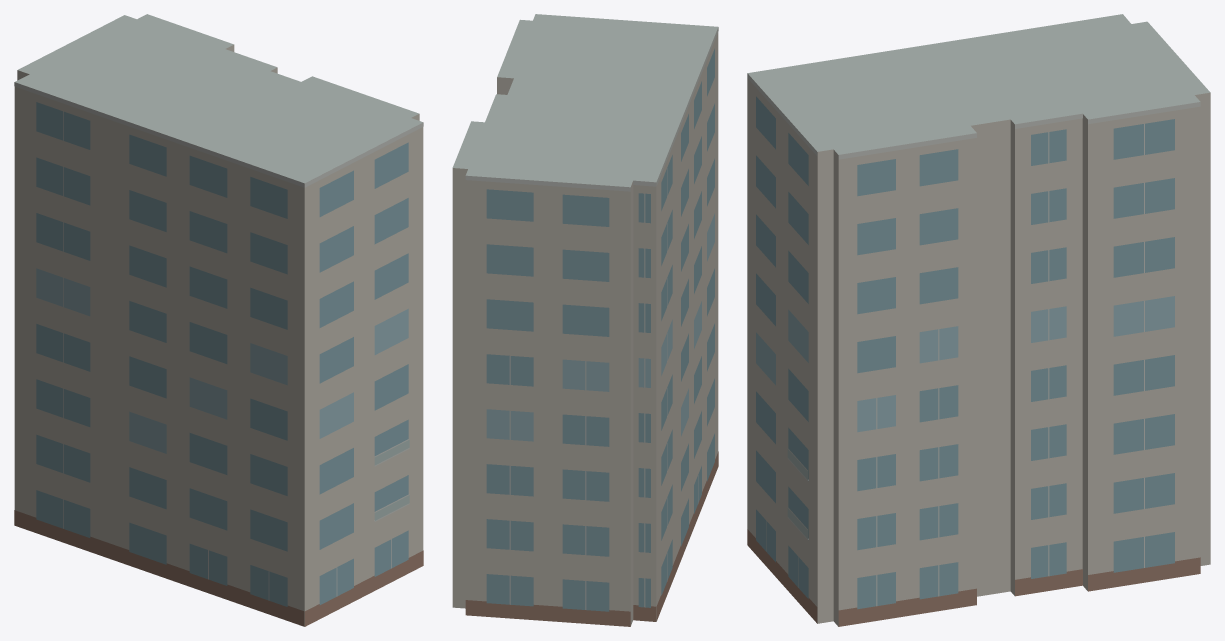
Rendered from survey-upis-32853660.glb.
3 views of the same model, side by side, from view 1: azimuth 30°, elevation 25°; view 2: azimuth 150°, elevation 25°; view 3: azimuth 270°, elevation 25° (orthographic). The views are drawn at different scales.
Parts seen in each view (by area): view 1: survey-upis-32853660.tmp; view 2: survey-upis-32853660.tmp; view 3: survey-upis-32853660.tmp.
Part boxes in pixels (box(x1,y1,x2,y2)): survey-upis-32853660.tmp: box(14, 14, 423, 626); survey-upis-32853660.tmp: box(452, 14, 718, 626); survey-upis-32853660.tmp: box(747, 14, 1210, 626).
Size of the model in its own units: 15.64 by 24.4 by 21.72.
